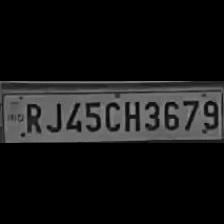3: (141, 97, 159, 131)
4: (64, 99, 80, 134)
5: (80, 97, 100, 132)
6: (160, 97, 180, 131)
7: (180, 97, 198, 131)
9: (200, 96, 218, 132)
C: (101, 98, 119, 132)
H: (122, 97, 140, 132)
J: (45, 99, 63, 134)
R: (19, 100, 43, 134)
